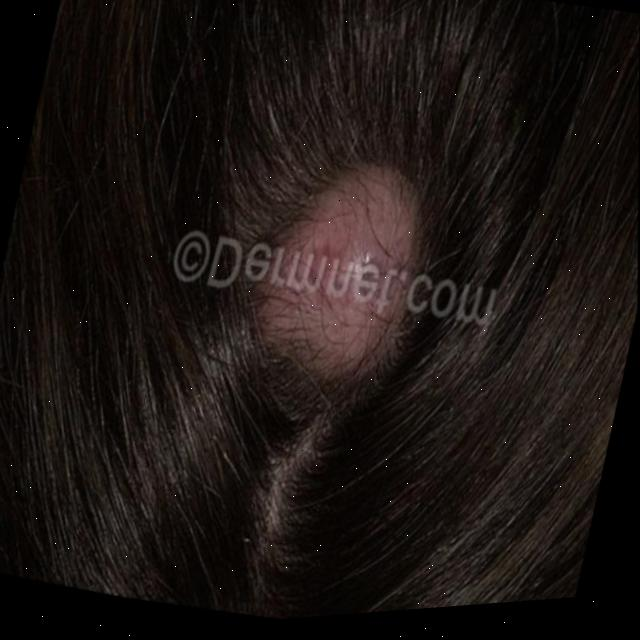Eczema: (261, 166, 415, 359)
